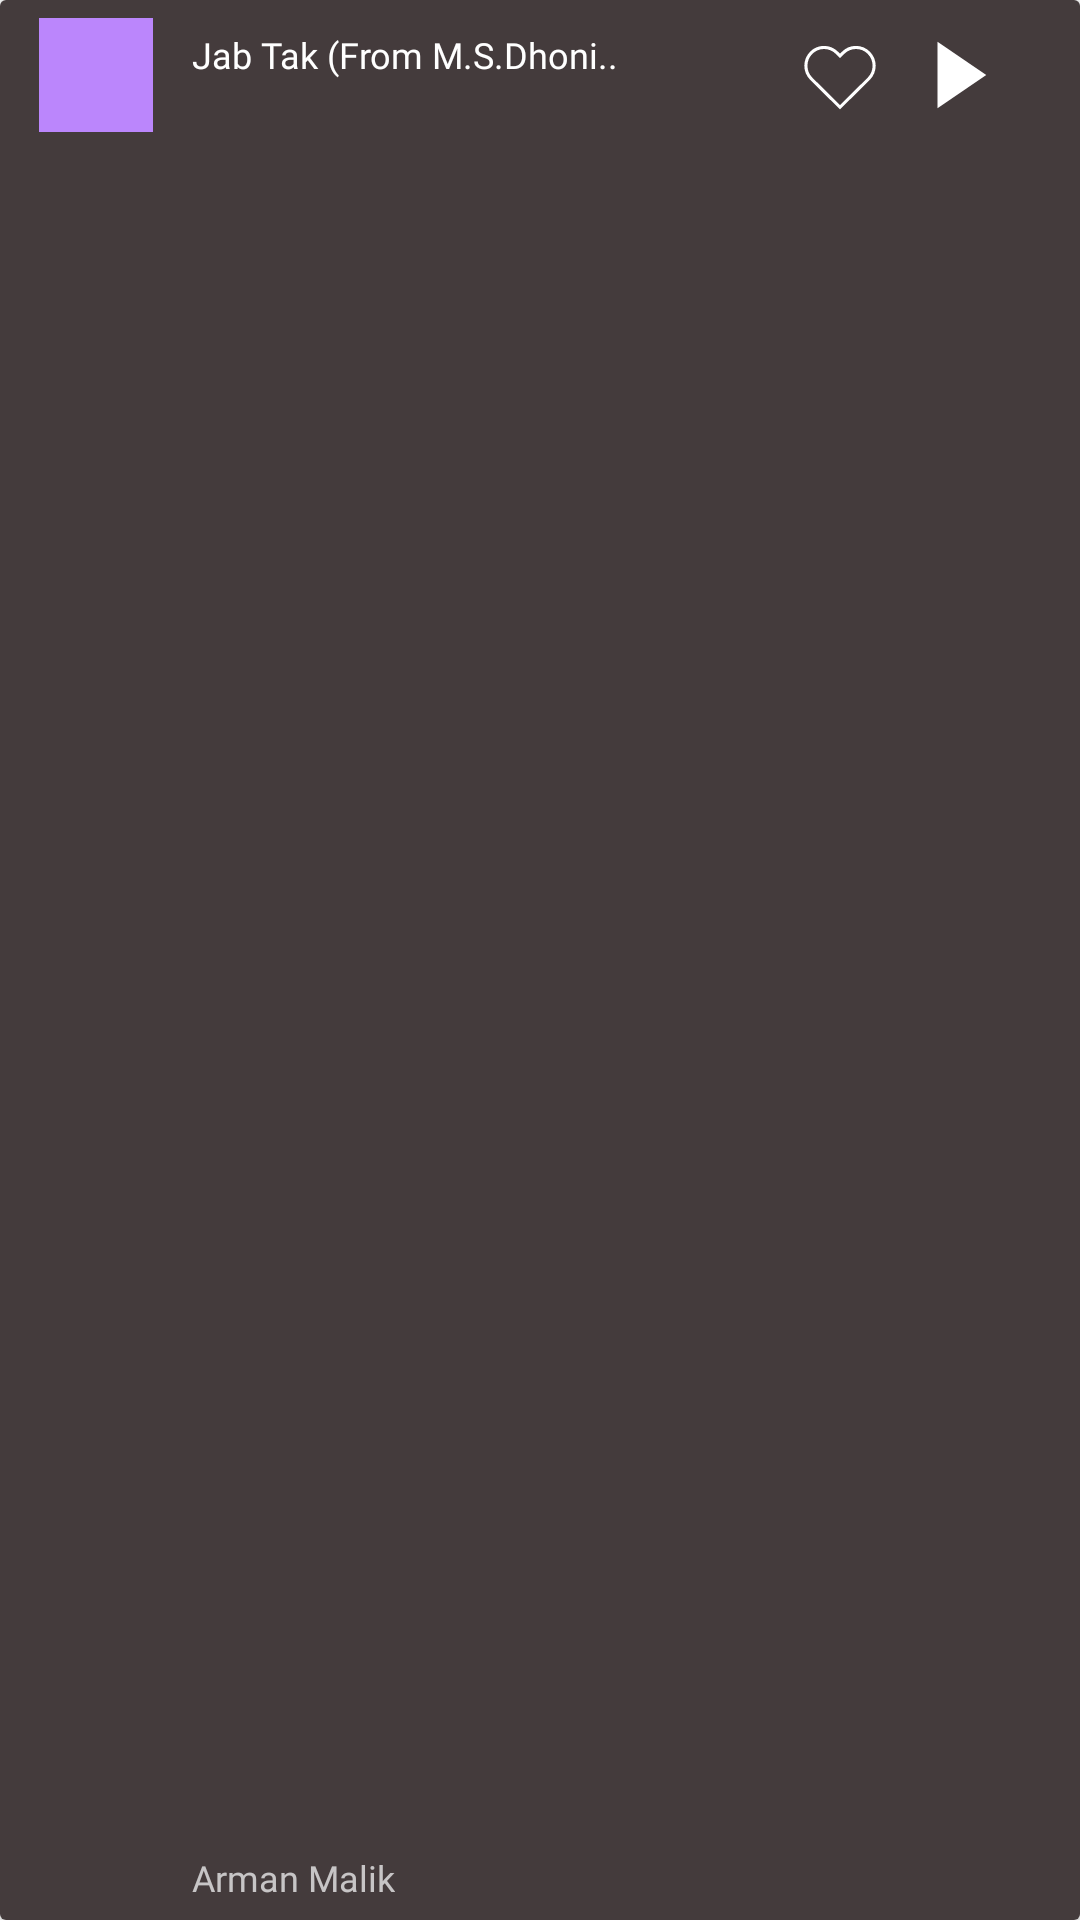

Icon bounding boxes for this 1080×1920 phone screenshot, format [x1=x1, y1=y1, x2=x2, y2=y2]:
heart: [x1=804, y1=46, x2=876, y2=109]
play: [x1=937, y1=42, x2=986, y2=108]
